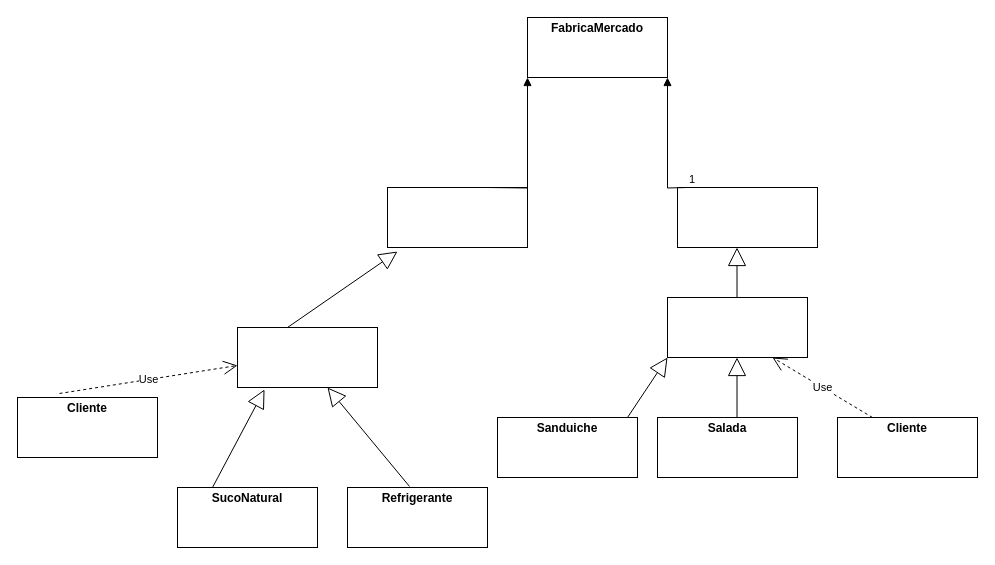
This 995x565 diagram has some shape labels left out. Here are the shapes that lost their labels. From the top down, the centre of each, then its label:
At pixel 457 217: "MercadoSaudavel".
At pixel 747 217: "MercadoPopular".
At pixel 737 327: "Alimento".
At pixel 307 357: "Bebida".
